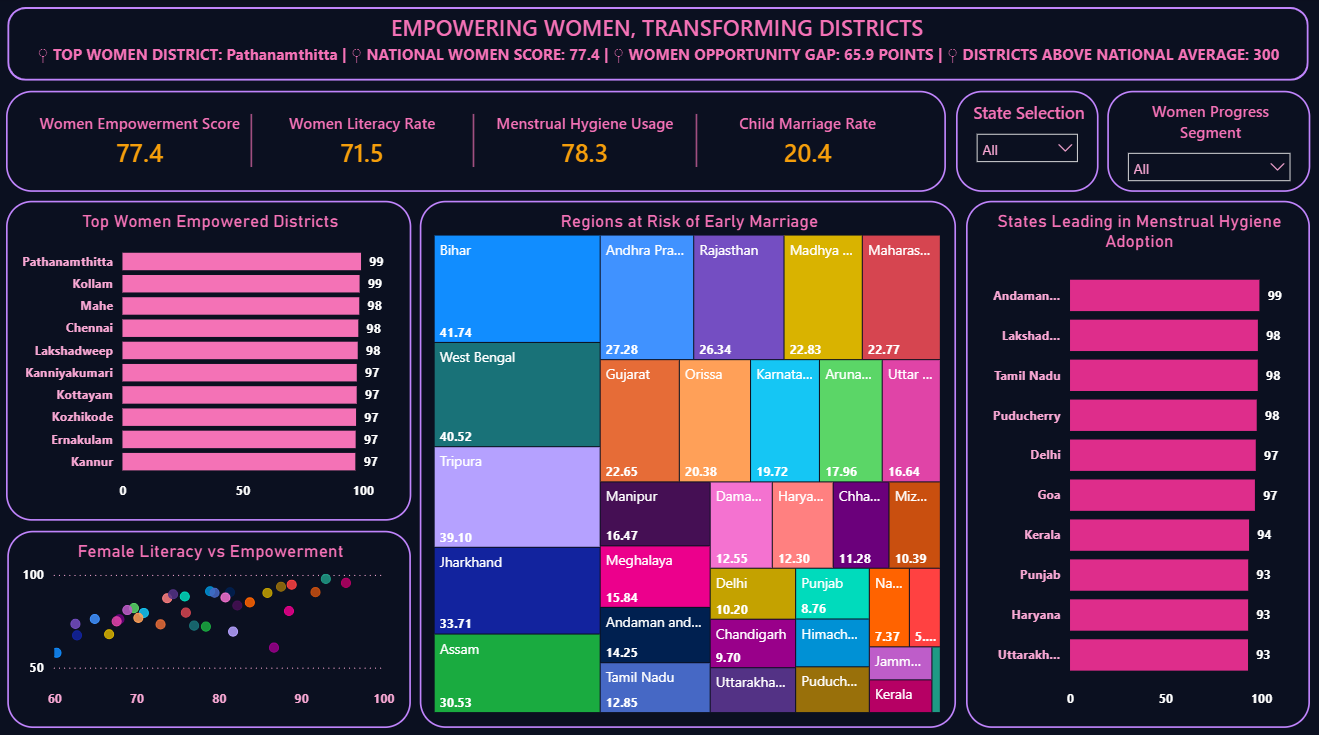

This screenshot's page, from the dashboard's own definition file:
{"tool":"powerbi","page":{"name":"Page 2","canvas":[1280,720],"ordinal":1},"visuals":[{"type":"textbox","box":[9.6,9.6,1257,89.2],"z":0},{"type":"cardVisual","fields":{"Data":["Page 2.Women Insight Bar"]},"box":[10.9,9.7,1257.1,89.3],"z":1000},{"type":"shape","box":[11.2,10,1256.2,71.2],"z":2000},{"type":"cardVisual","title":"Women Empowerment Score","fields":{"Data":["Measure.Women Empowerment Score","Page 2.Avg Female Literacy","Page 2.Avg Hygiene Usage","Page 2.Avg Child Marriage"]},"box":[10,90,907.5,97.5],"z":3000},{"type":"slicer","title":"State Selection","fields":{"Values":["Dim_District_Profile.State"]},"box":[926.2,90,137.5,97.5],"z":4000},{"type":"slicer","title":"Women Progress Segment","fields":{"Values":["Fact_Health_NFHS.Women Category"]},"box":[1072.5,90,196.2,97.5],"z":5000},{"type":"clusteredBarChart","title":"Top Women Empowered Districts","fields":{"Category":["Dim_District_Profile.District"],"Y":["Measure.Women Empowerment Score"]},"box":[10,196.2,391.2,308.8],"z":6000},{"type":"scatterChart","title":"Female Literacy vs Empowerment","fields":{"X":["Avg(Fact_Health_NFHS.Female population age 6 years and above who ever attended school (%))"],"Y":["Measure.Women Empowerment Score"],"Series":["Dim_District_Profile.State"]},"box":[10.9,515.2,389.7,190.6],"z":7000},{"type":"treemap","title":"Regions at Risk of Early Marriage","fields":{"Group":["Dim_District_Profile.State"],"Values":["Avg(Fact_Health_NFHS.Women age 20-24 years married before age 18 years (%))"]},"box":[409,196.6,517.6,509.1],"z":8000},{"type":"clusteredBarChart","title":"States Leading in Menstrual Hygiene Adoption","fields":{"Category":["Dim_District_Profile.State"],"Y":["Avg(Fact_Health_NFHS.Women age 15-24 years who use hygienic methods of protection during their menstrual period5 (%))"]},"box":[936.2,196.6,331.8,509.1],"z":9000}]}

Visuals, with their boxes in screenshot pixels (x1, y1, x2, y2), scaled from the page's 1280x720 canvas onto the 1319x735 screenshot:
textbox: (10, 10, 1305, 101)
cardVisual - Page 2.Women Insight Bar: (11, 10, 1307, 101)
shape: (12, 10, 1306, 83)
"Women Empowerment Score" cardVisual: (10, 92, 945, 191)
"State Selection" slicer: (954, 92, 1096, 191)
"Women Progress Segment" slicer: (1105, 92, 1307, 191)
"Top Women Empowered Districts" clusteredBarChart: (10, 200, 413, 516)
"Female Literacy vs Empowerment" scatterChart: (11, 526, 413, 721)
"Regions at Risk of Early Marriage" treemap: (421, 201, 955, 720)
"States Leading in Menstrual Hygiene Adoption" clusteredBarChart: (965, 201, 1307, 720)
